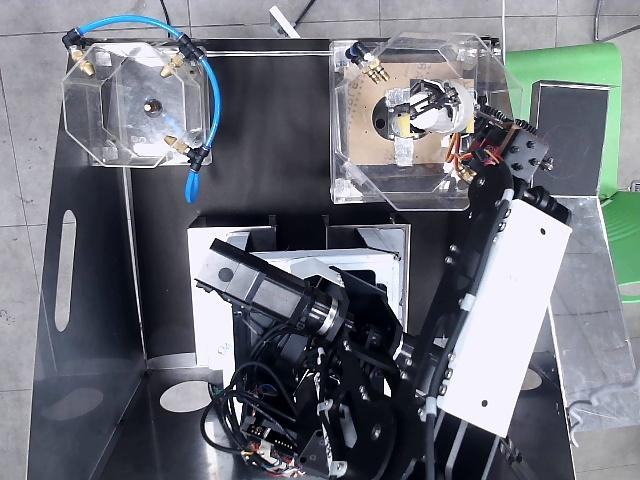cup: (410, 79, 474, 133)
